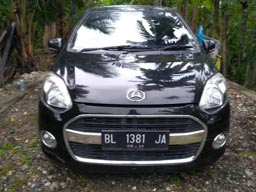plat: (101, 129, 170, 144)
